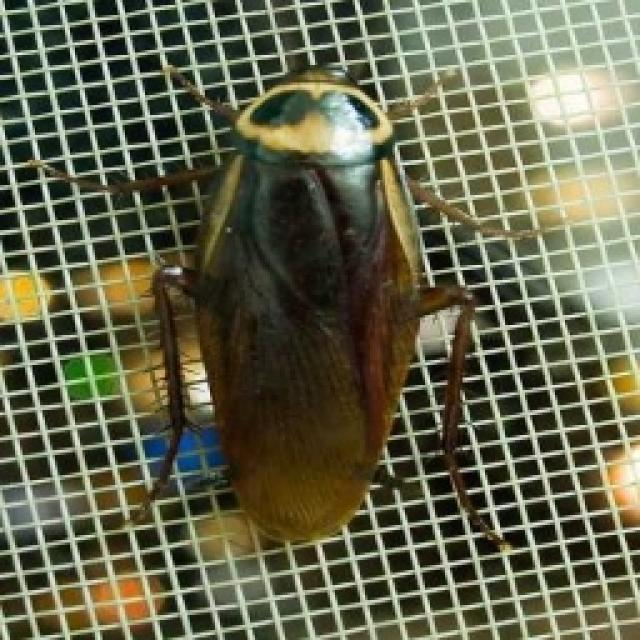cockroach: (142, 32, 450, 554)
